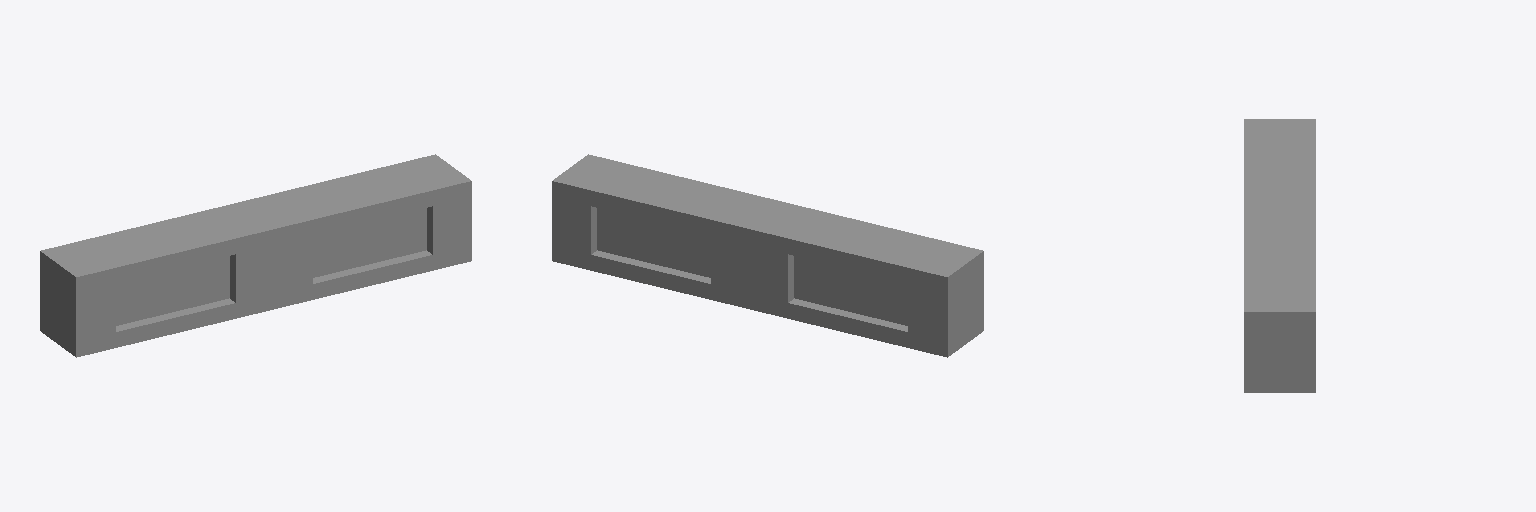
Rendered from wagon.obj.
3 views of the same model, side by side, from view 1: azimuth 30°, elevation 25°; view 2: azimuth 150°, elevation 25°; view 3: azimuth 270°, elevation 25° (orthographic).
Parts seen in each view (by area): view 1: Cube; view 2: Cube; view 3: Cube.
Part boxes in pixels (x1,y1,x2,y2): Cube: (40,154,471,357); Cube: (552,154,983,357); Cube: (1244,119,1315,392).
Bounding box in the file's own units: 10.32 × 2 × 1.64.